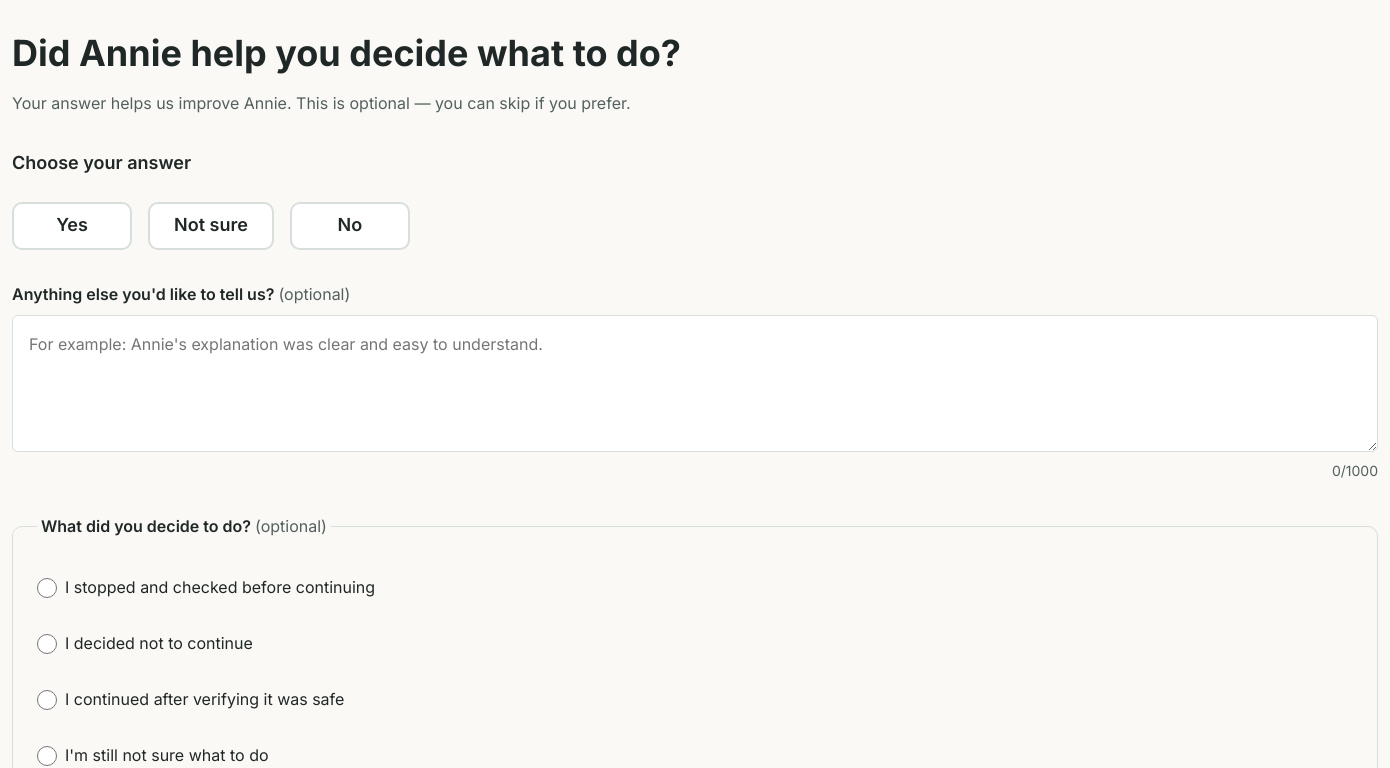
Test case: FeedbackScreen — Submit button disabled state › Submit is enabled after selecting "Yes"
Click the radio button labelled "Yes" at (72, 226), box x1=12 y1=202 x2=132 y2=250
(page scrolled)
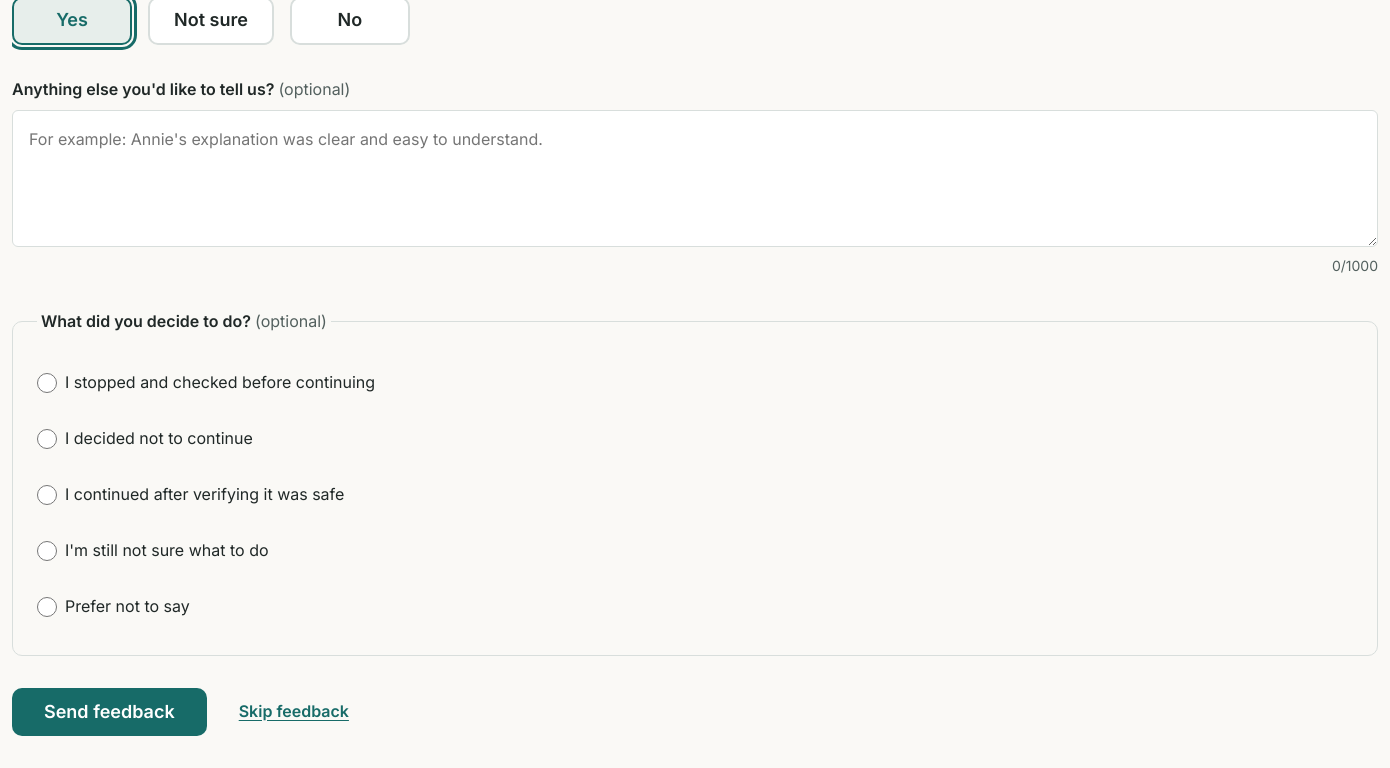
Expected: the button "Send feedback" is enabled, x1=12 y1=688 x2=207 y2=736
